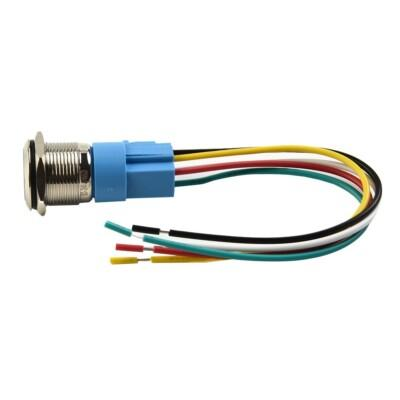pushbutton: (15, 127, 242, 212)
